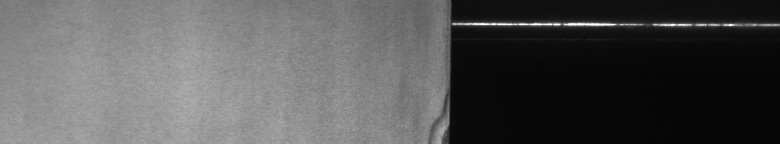hb: (424, 109, 440, 136)
